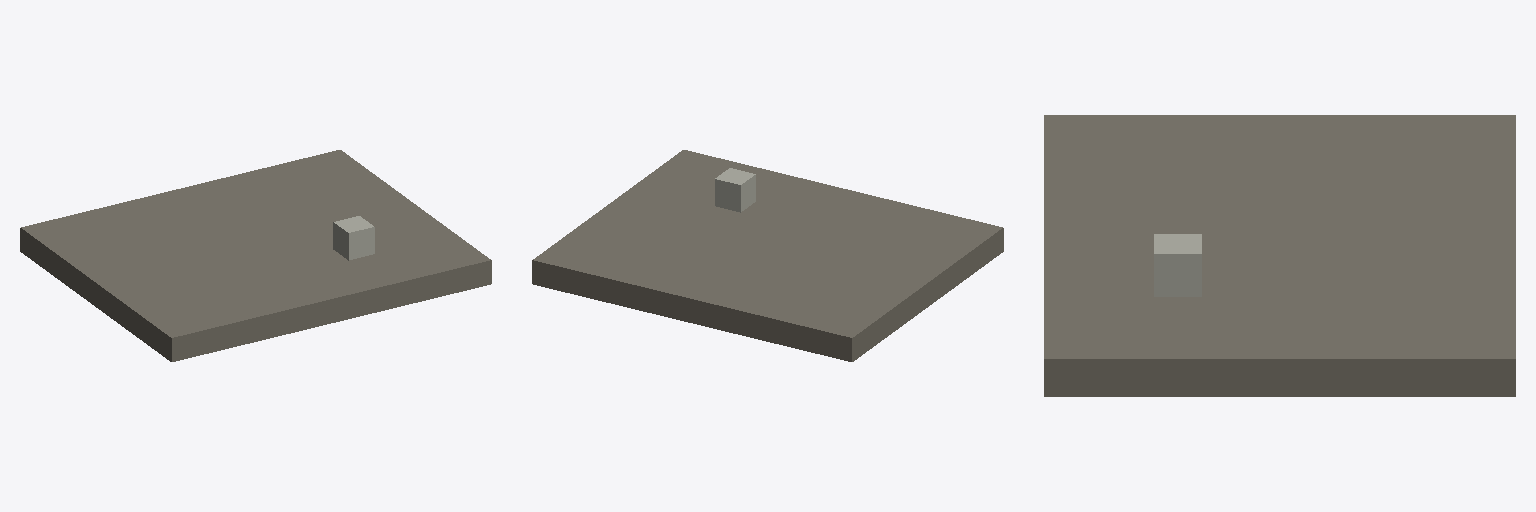
URDF robot description (parttoolgen_hammer_single_cube):
<?xml version="1.0"?>
<robot name="parttoolgen_hammer_single_cube">
  <link name="table_with_target_cube">
    <visual>
      <material name="wood">
        <color rgba="0.52 0.50 0.46 1.0"/>
      </material>
      <origin xyz="0 0 0"/>
      <geometry>
        <box size="0.55 0.45 0.04"/>
      </geometry>
    </visual>
    <collision>
      <origin xyz="0 0 0"/>
      <geometry>
        <box size="0.55 0.45 0.04"/>
      </geometry>
    </collision>

    <visual>
      <material name="target_cube">
        <color rgba="0.72 0.72 0.68 1.0"/>
      </material>
      <origin xyz="0.11235327114146704 -0.09743596736572896 0.042499999999999996"/>
      <geometry>
        <box size="0.045 0.045 0.045"/>
      </geometry>
    </visual>
    <collision>
      <origin xyz="0.11235327114146704 -0.09743596736572896 0.042499999999999996"/>
      <geometry>
        <box size="0.045 0.045 0.045"/>
      </geometry>
    </collision>

    <inertial>
      <mass value="500"/>
      <friction value="1.0"/>
      <inertia ixx="1000.0" ixy="0.0" ixz="0.0" iyy="1000.0" iyz="0.0" izz="1000.0"/>
    </inertial>
  </link>
</robot>

--- Render facts (derived) ---
The picture shows the robot from 3 angles, left to right: view 1: azimuth 30°, elevation 25°; view 2: azimuth 150°, elevation 25°; view 3: azimuth 270°, elevation 25°; orthographic projection.
Model parttoolgen_hammer_single_cube with 1 links and 0 joints (none), rooted at table_with_target_cube, posed every joint at zero.
Links seen in each view (by area): view 1: table_with_target_cube; view 2: table_with_target_cube; view 3: table_with_target_cube.
Link boxes in pixels (left/top/right/bottom): table_with_target_cube: left=20, top=150, right=491, bottom=361; table_with_target_cube: left=532, top=150, right=1003, bottom=361; table_with_target_cube: left=1044, top=115, right=1515, bottom=396.
Bounding box of the posed robot: 0.55 × 0.45 × 0.085 m (x, y, z).
Geometry: primitives only (box / cylinder / sphere), no mesh files.
